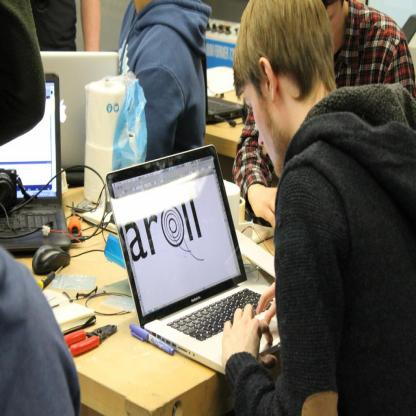board: (101, 144, 271, 366), (0, 73, 71, 258), (40, 52, 119, 186), (201, 31, 241, 126), (65, 325, 115, 354)
